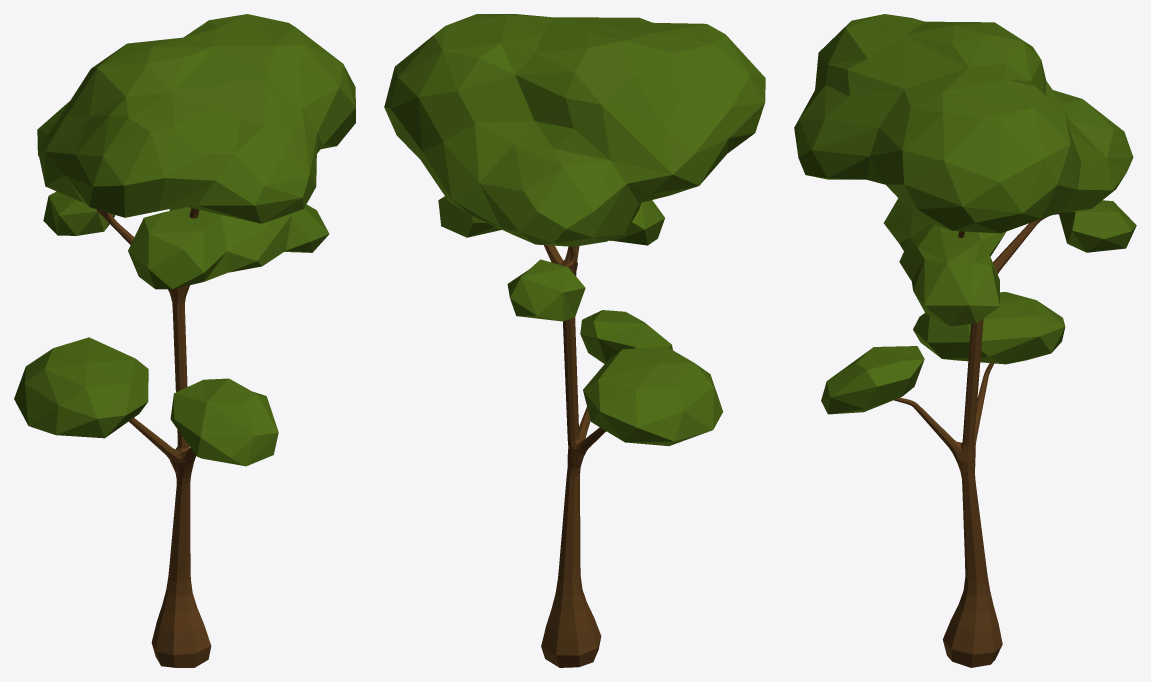
Rendered from Tree_Varient_1_v001.fbx.
3 renders of one model, left to right at view 1: azimuth 30°, elevation 25°; view 2: azimuth 150°, elevation 25°; view 3: azimuth 270°, elevation 25°, orthographic.
Visible parts, largest first — view 1: Leaves, Trunk; view 2: Leaves, Trunk; view 3: Leaves, Trunk.
Boxes of the visible parts, box(x1,y1,x2,y2) form: Leaves: box(14, 14, 355, 466); Trunk: box(96, 208, 211, 667); Leaves: box(384, 14, 765, 446); Trunk: box(541, 245, 606, 667); Leaves: box(794, 14, 1136, 414); Trunk: box(894, 212, 1060, 667).
Bounding box in the file's own units: 347 × 651 × 327.
